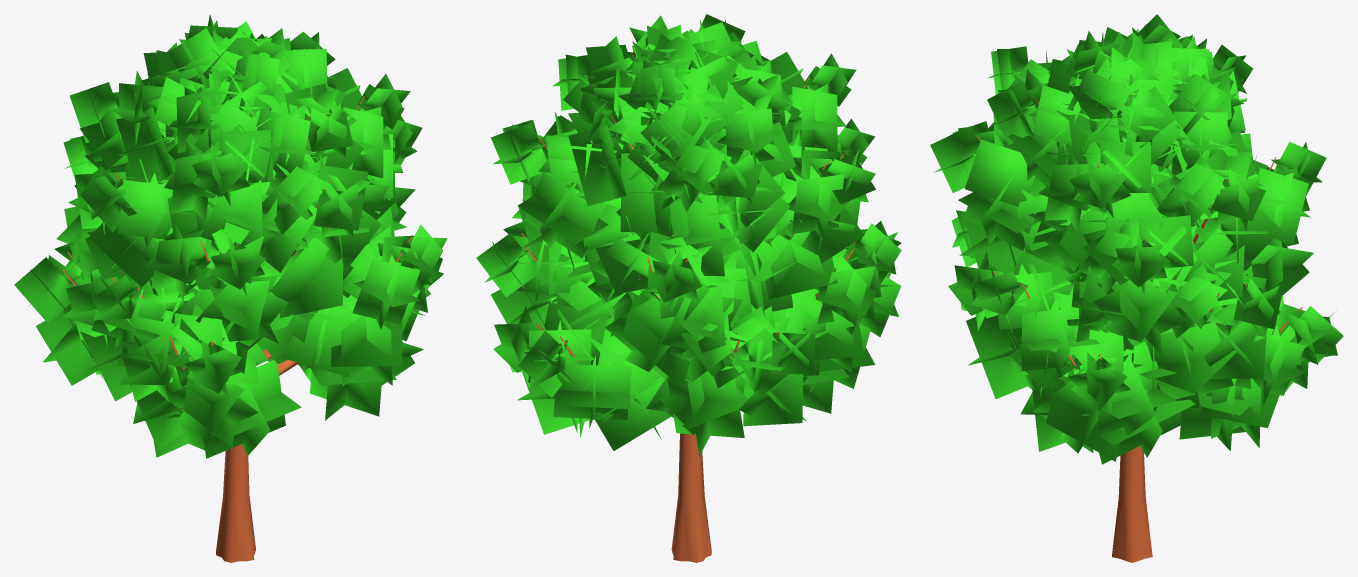
3 renders of one model, left to right at view 1: azimuth 30°, elevation 25°; view 2: azimuth 150°, elevation 25°; view 3: azimuth 270°, elevation 25°, orthographic.
Parts seen in each view (by area): view 1: tree6; view 2: tree6; view 3: tree6.
Boxes of the visible parts, <box> form: tree6: <box>14,14,447,562</box>; tree6: <box>476,14,901,562</box>; tree6: <box>930,14,1343,562</box>.
Bounding box in the file's own units: 78.94 × 108 × 77.42.
